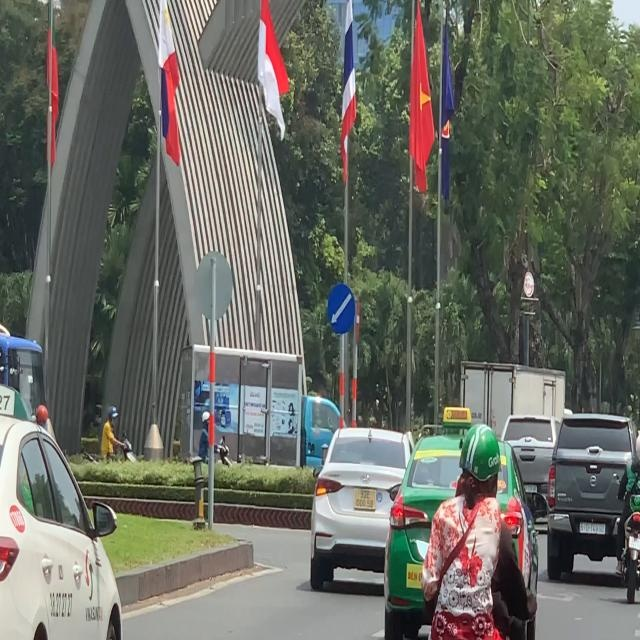bien_cam: (327, 283, 355, 334)
